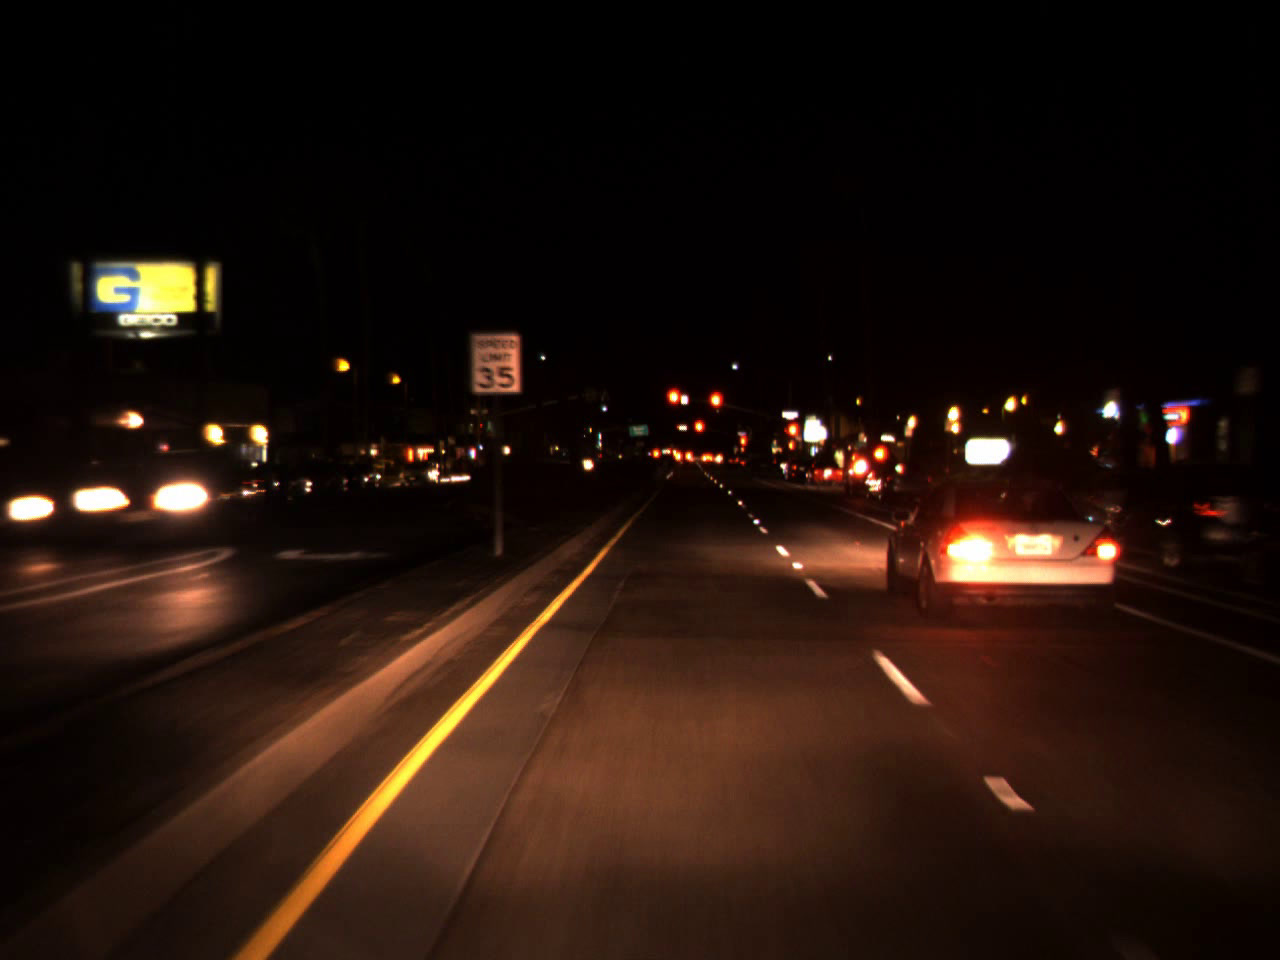stop: (664, 386, 685, 421), (707, 388, 725, 425), (785, 421, 800, 453), (693, 419, 705, 446), (739, 433, 746, 460)
